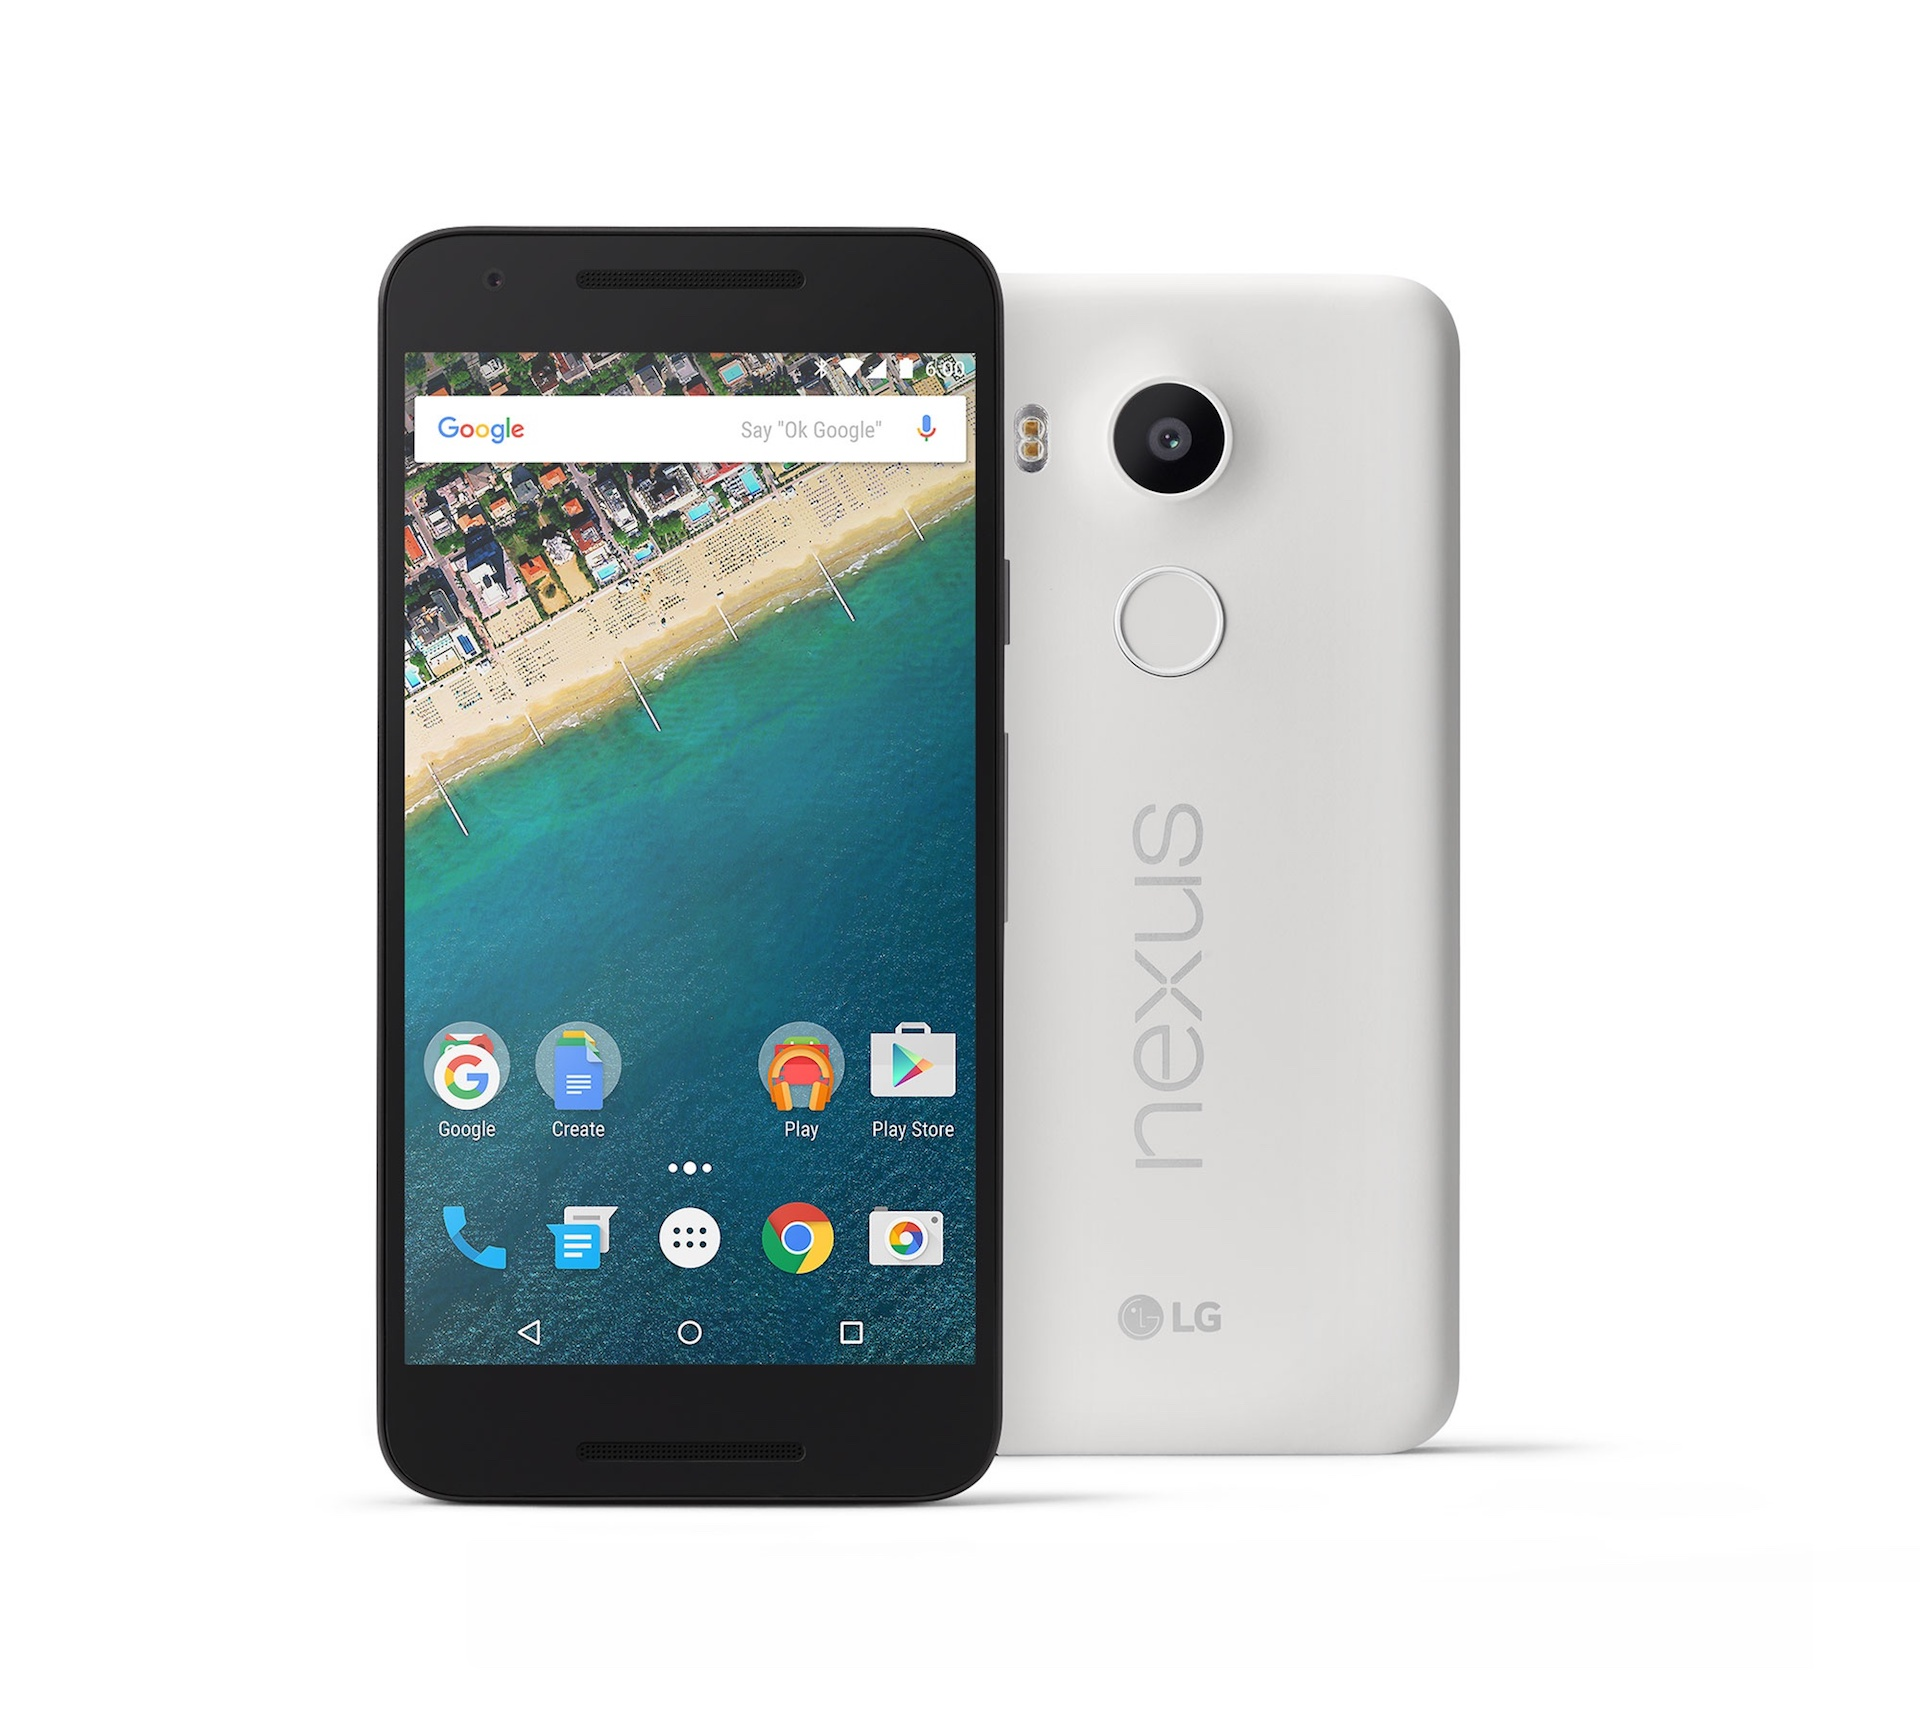smartphone: (373, 222, 1015, 1511), (997, 265, 1464, 1457)
